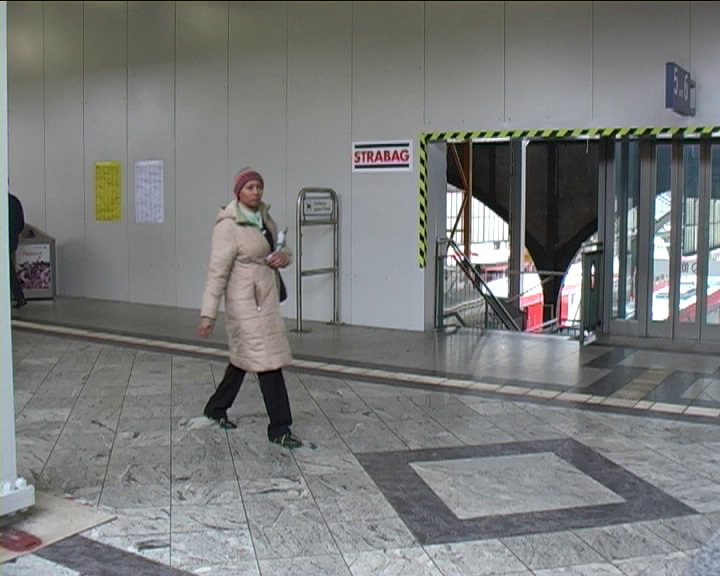deflection: (213, 165, 291, 279)
